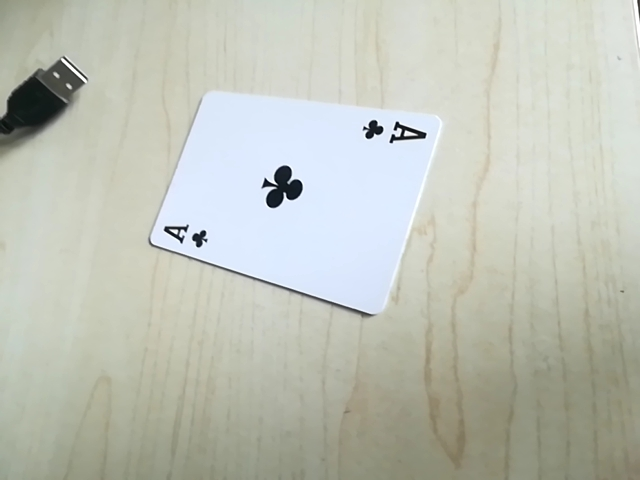mh a: (354, 115, 433, 153), (153, 216, 215, 252)
